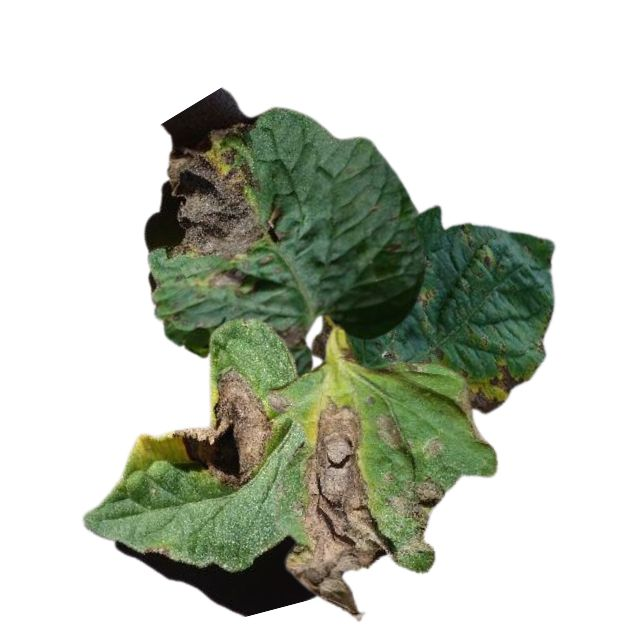Early_blight: (281, 399, 396, 618), (168, 118, 268, 260), (175, 370, 272, 490), (386, 476, 443, 556), (468, 364, 526, 412), (376, 412, 404, 450), (204, 268, 241, 290), (277, 322, 306, 350), (311, 320, 331, 358), (266, 392, 291, 411), (424, 436, 442, 454)
